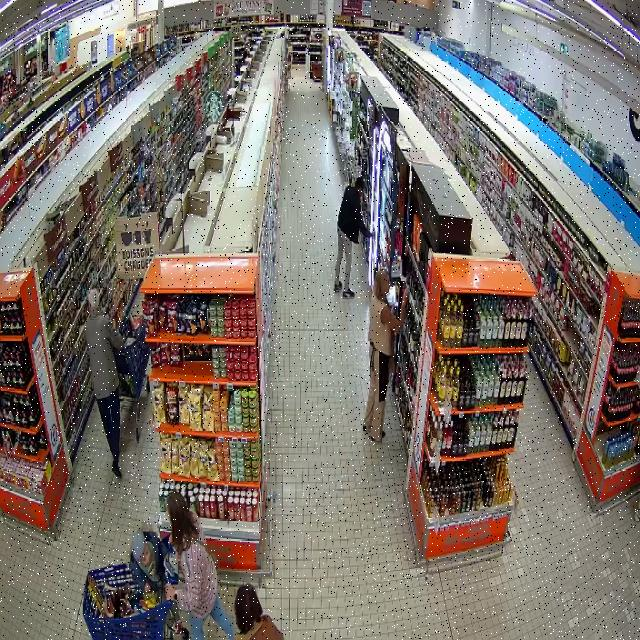hands: (165, 584, 176, 599), (402, 288, 409, 308), (126, 337, 135, 346), (145, 583, 151, 593), (368, 232, 373, 237)
person: (165, 491, 233, 639), (83, 289, 125, 478), (363, 268, 407, 441), (334, 177, 371, 298), (129, 528, 167, 599), (235, 584, 283, 639)
